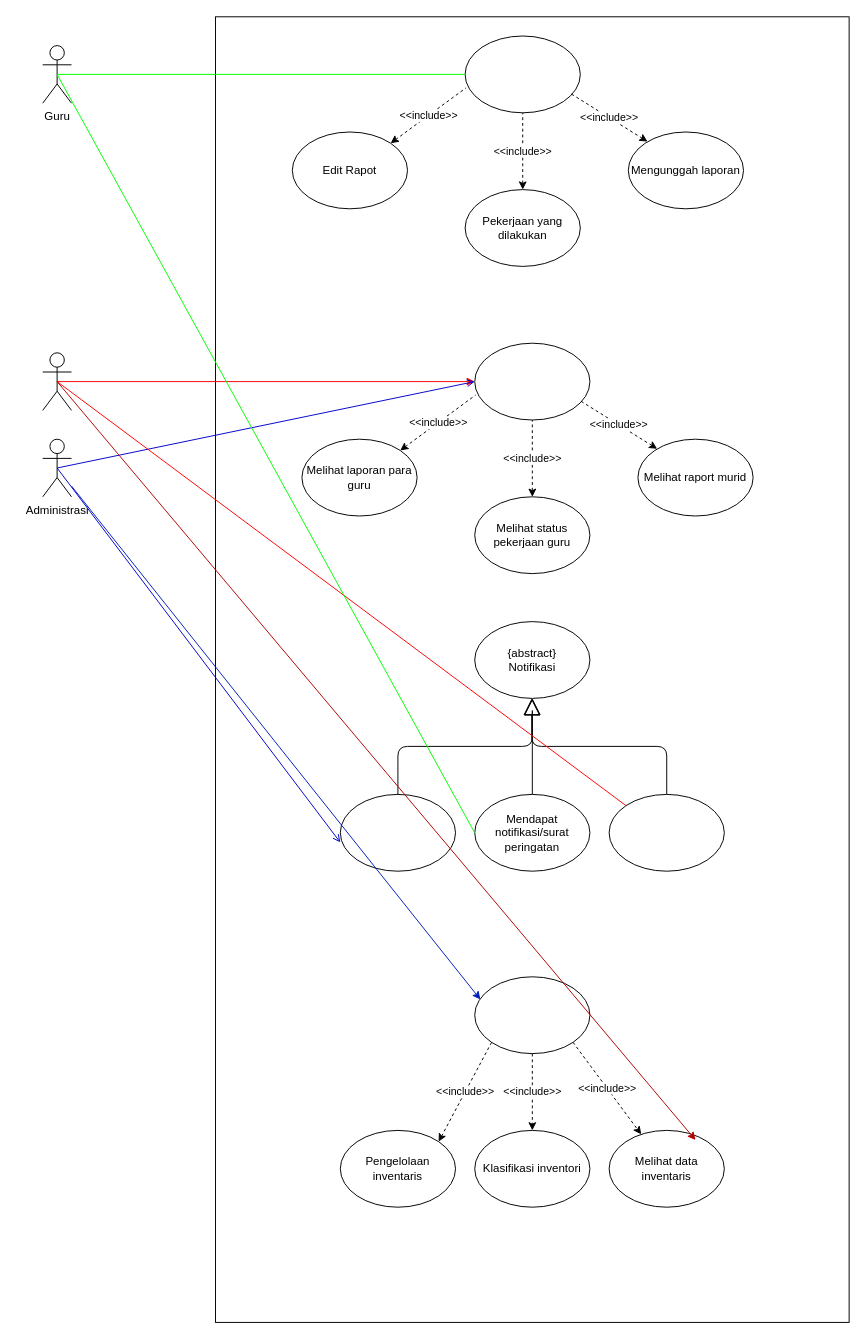
Some shapes in this 866 by 1339 pixel diagram are drawn without their labels. The centre of each missing label's shape, as x and y in pixels:
Kepala Sekolah: (x=57, y=381)
Melakukan Pendataan: (x=522, y=74)
Memantau Kinerja: (x=532, y=381)
Memberi surat peringatan: (x=397, y=832)
Mengirim notifikasi pekerjaan kurang lengkap: (x=666, y=832)
Monitoring inventaris: (x=532, y=1015)
